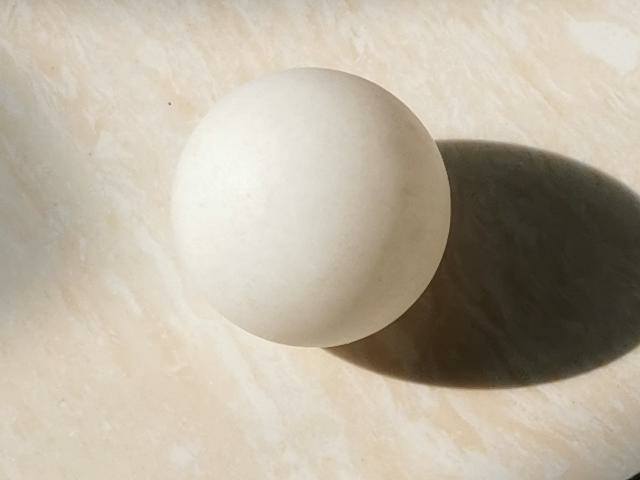ball: (167, 71, 452, 345)
